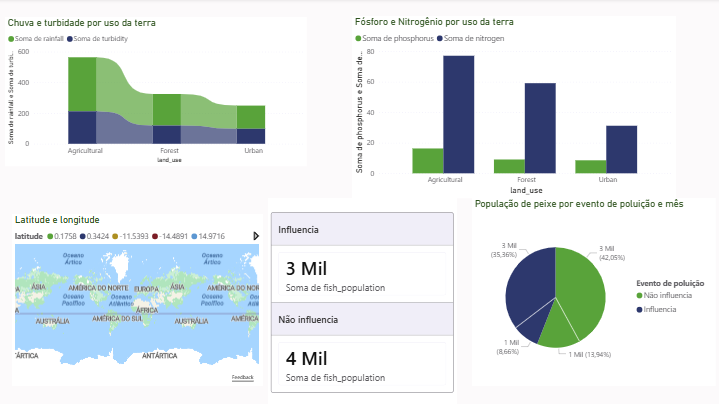

This screenshot's page, from the dashboard's own definition file:
{"tool":"powerbi","page":{"name":"Página 1","canvas":[1280,720],"ordinal":0},"visuals":[{"type":"azureMap","title":"Latitude e longitude","fields":{"Series":["Consulta1.latitude"],"Category":["Consulta1.longitude"]},"box":[24.6,379.3,439,302],"z":0},{"type":"ribbonChart","title":"Chuva e turbidade por uso da terra","fields":{"Y":["Sum(Consulta1.rainfall)","Sum(Consulta1.turbidity)"],"Category":["Consulta1.land_use"]},"box":[12.3,33.4,530.3,261.6],"z":1},{"type":"clusteredColumnChart","title":"Fósforo e Nitrogênio por uso da terra","fields":{"Category":["Consulta1.land_use"],"Y":["Sum(Consulta1.phosphorus)","Sum(Consulta1.nitrogen)"]},"box":[621.6,31.6,568.9,319.6],"z":2},{"type":"cardVisual","fields":{"Data":["Sum(Consulta1.fish_population)"],"Rows":["Consulta1.Evento de poluição"]},"box":[474.1,351.2,331.9,368.7],"z":3},{"type":"pieChart","title":"População de peixe por evento de poluição e mês","fields":{"Series":["Consulta1.mês"],"Y":["Sum(Consulta1.fish_population)"],"Category":["Consulta1.Evento de poluição"]},"box":[832.3,351.2,428.4,330.1],"z":4}]}

Visuals, with their boxes in screenshot pixels (x1, y1, x2, y2), scaled from the page's 1280x720 canvas onto the 719x404 screenshot:
"Latitude e longitude" azureMap: left=14, top=213, right=260, bottom=382
"Chuva e turbidade por uso da terra" ribbonChart: left=7, top=19, right=305, bottom=166
"Fósforo e Nitrogênio por uso da terra" clusteredColumnChart: left=349, top=18, right=669, bottom=197
cardVisual - Sum(Consulta1.fish_population) x Consulta1.Evento de poluição: left=266, top=197, right=453, bottom=403
"População de peixe por evento de poluição e mês" pieChart: left=468, top=197, right=708, bottom=382
